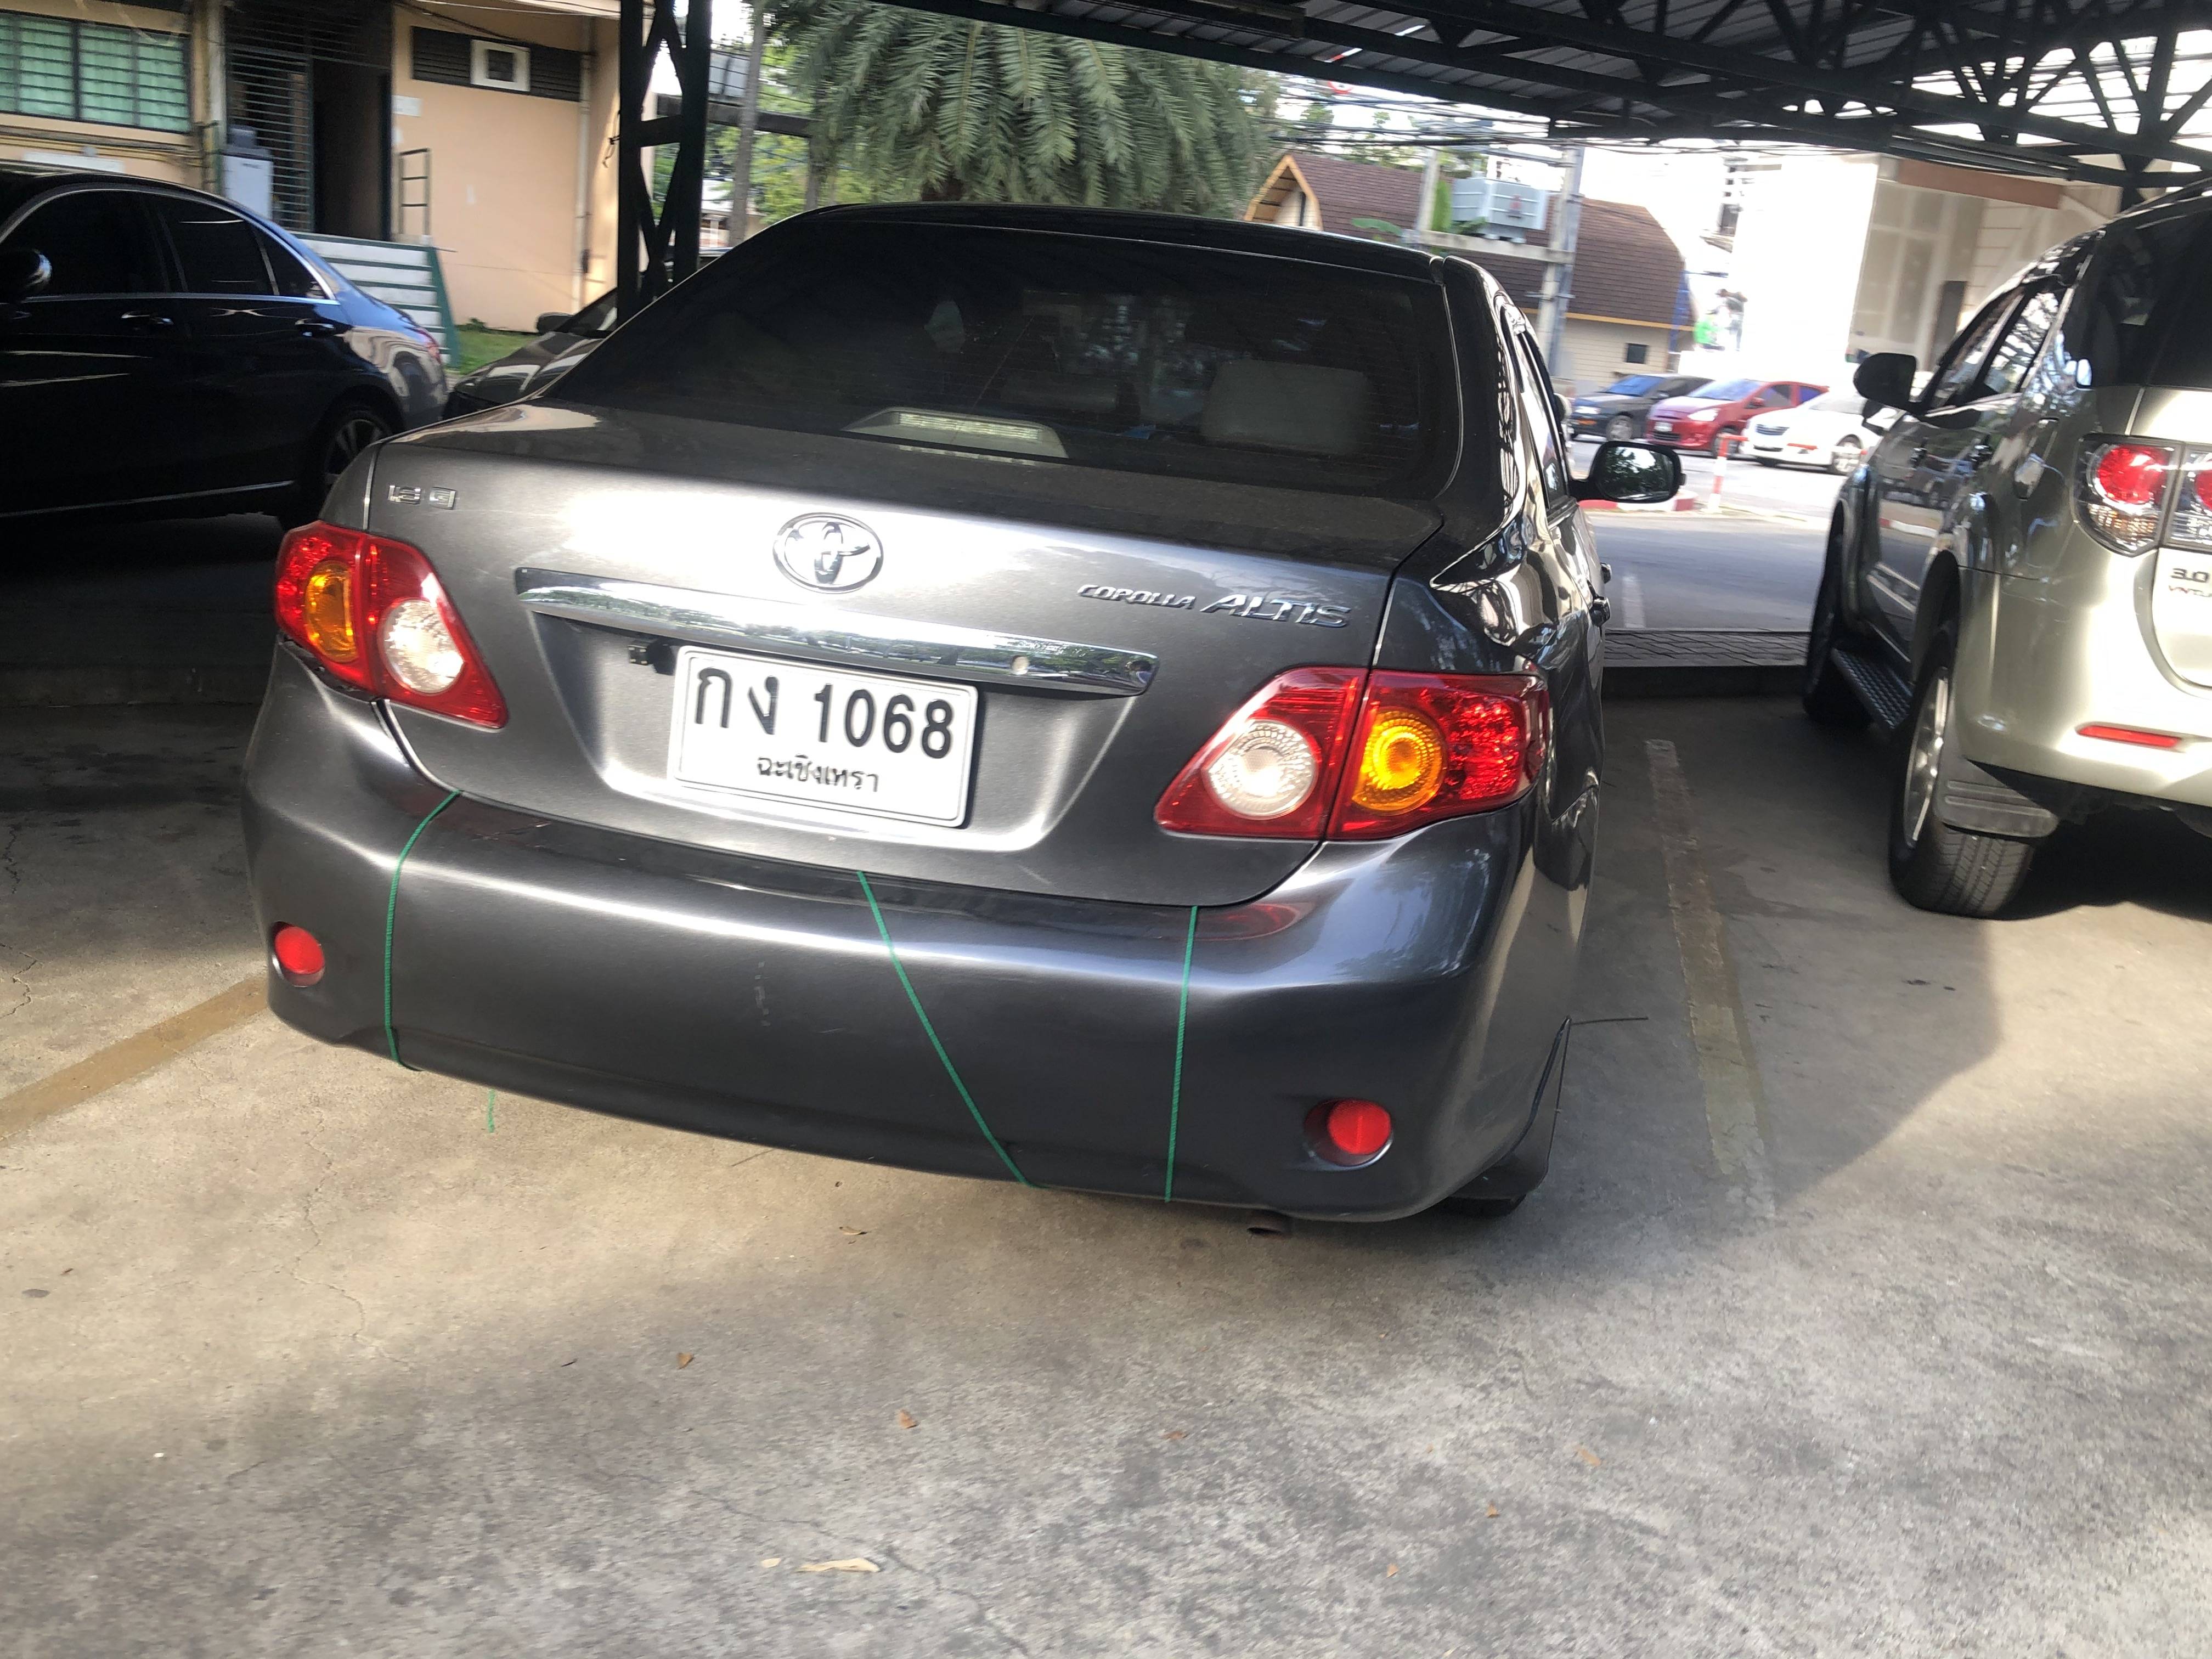in: (681, 652, 965, 817)
out: (664, 636, 974, 833)
